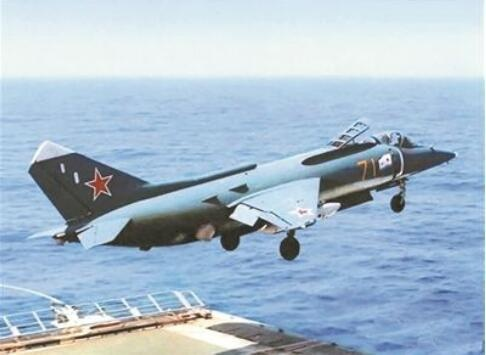airplane: (30, 100, 459, 260)
